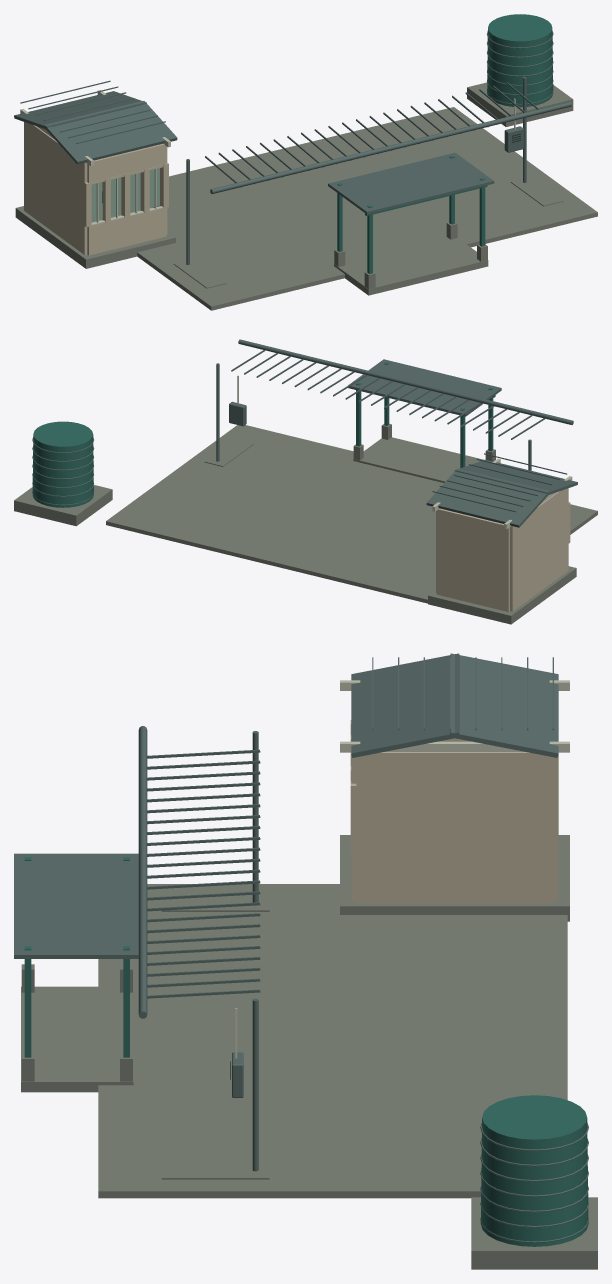
The model's file is clinic-0.glb.
The picture shows the model from 3 angles, top to bottom: view 1: azimuth 30°, elevation 25°; view 2: azimuth 150°, elevation 25°; view 3: azimuth 270°, elevation 25°; orthographic projection. The views are drawn at different scales.
Visible parts, largest first — view 1: Clinic_0; view 2: Clinic_0; view 3: Clinic_0.
Part boxes in pixels (x1,y1,x2,y2): Clinic_0: (14,14,597,310); Clinic_0: (14,339,597,624); Clinic_0: (14,653,597,1269).
Size of the model in its own units: 21.35 by 4.54 by 12.45.
